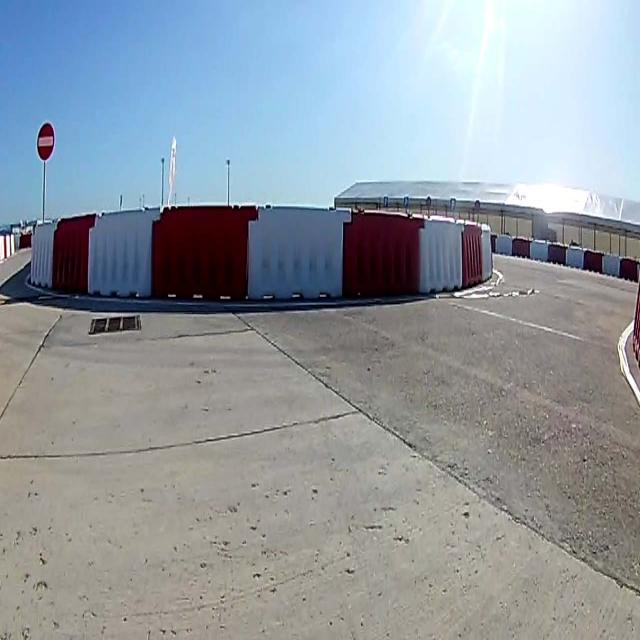girisyok: (37, 123, 55, 159)
